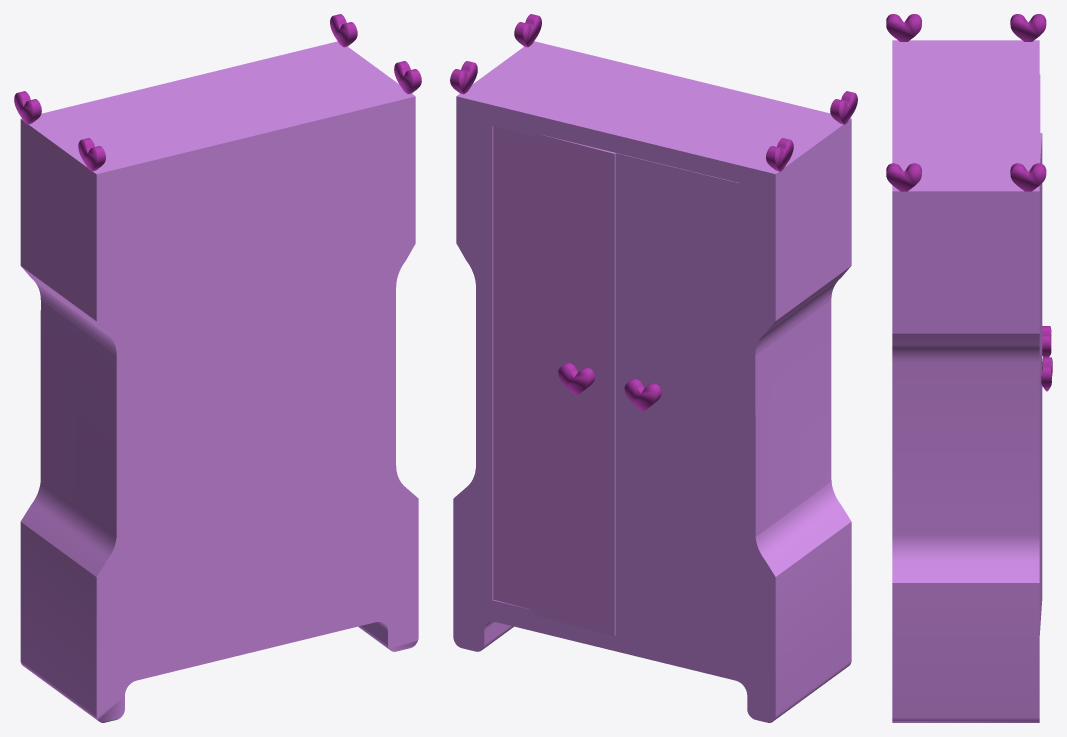
The model's file is GuardaRoupas (1).fbx.
The picture shows the model from 3 angles, left to right: view 1: azimuth 30°, elevation 25°; view 2: azimuth 150°, elevation 25°; view 3: azimuth 270°, elevation 25°; orthographic projection. The views are drawn at different scales.
Parts seen in each view (by area): view 1: Guarda-Roupa; view 2: Guarda-Roupa, PortaD, PortaE; view 3: Guarda-Roupa, PortaE, PortaD.
Part boxes in pixels (bbox=[...]): Guarda-Roupa: bbox=[14, 14, 421, 722]; Guarda-Roupa: bbox=[450, 14, 857, 722]; PortaD: bbox=[615, 153, 739, 665]; PortaE: bbox=[493, 126, 615, 635]; Guarda-Roupa: bbox=[886, 14, 1046, 722]; PortaE: bbox=[1039, 133, 1052, 634]; PortaD: bbox=[1039, 74, 1051, 357].
Size of the model in its own units: 79.07 by 134 by 36.19.
